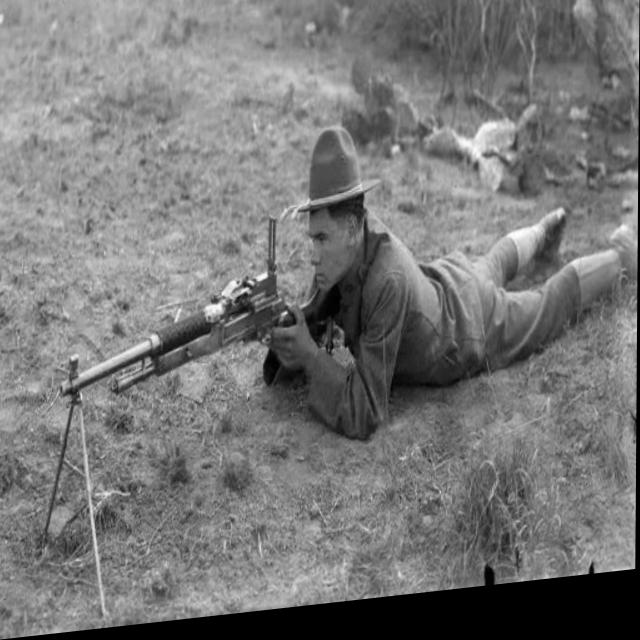other: (233, 109, 476, 450)
